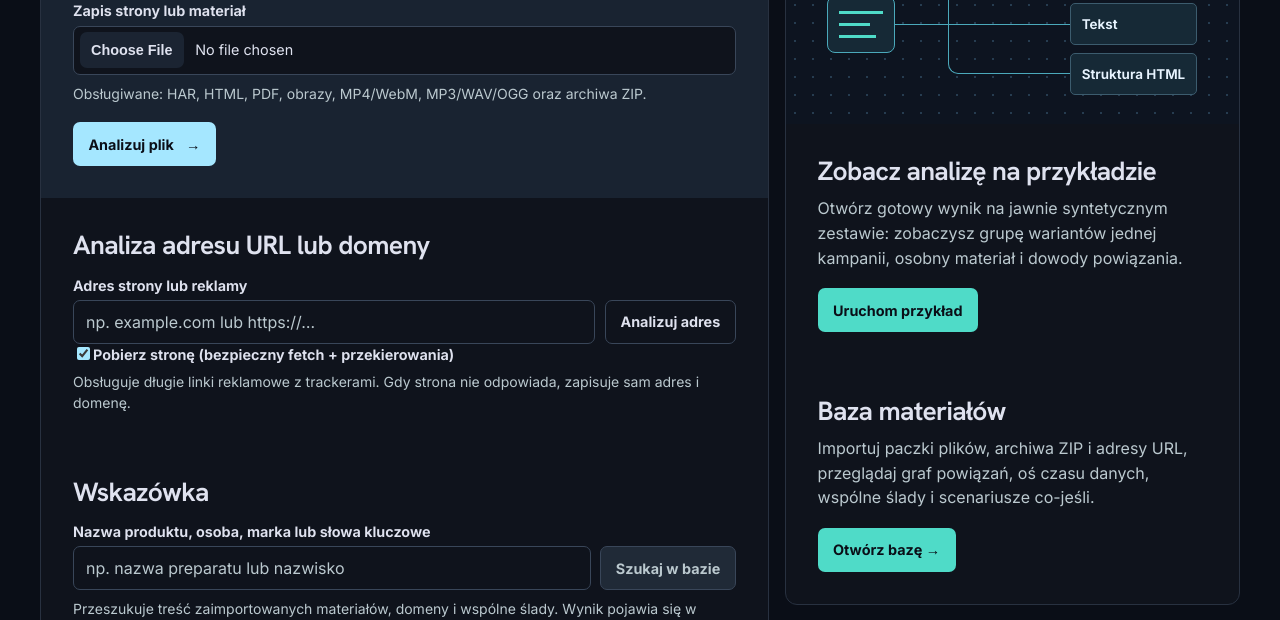
Test: ekran startowy › URL: wysyła JSON z domyślnym trybem fetch i normalizuje samą domenę
The width and height of the screenshot is (1280, 620).
(page scrolled)
Type "example.invalid/reklama/1" into the field labelled "Adres strony lub reklamy" at coordinates (334, 322), box [73,300,596,344]
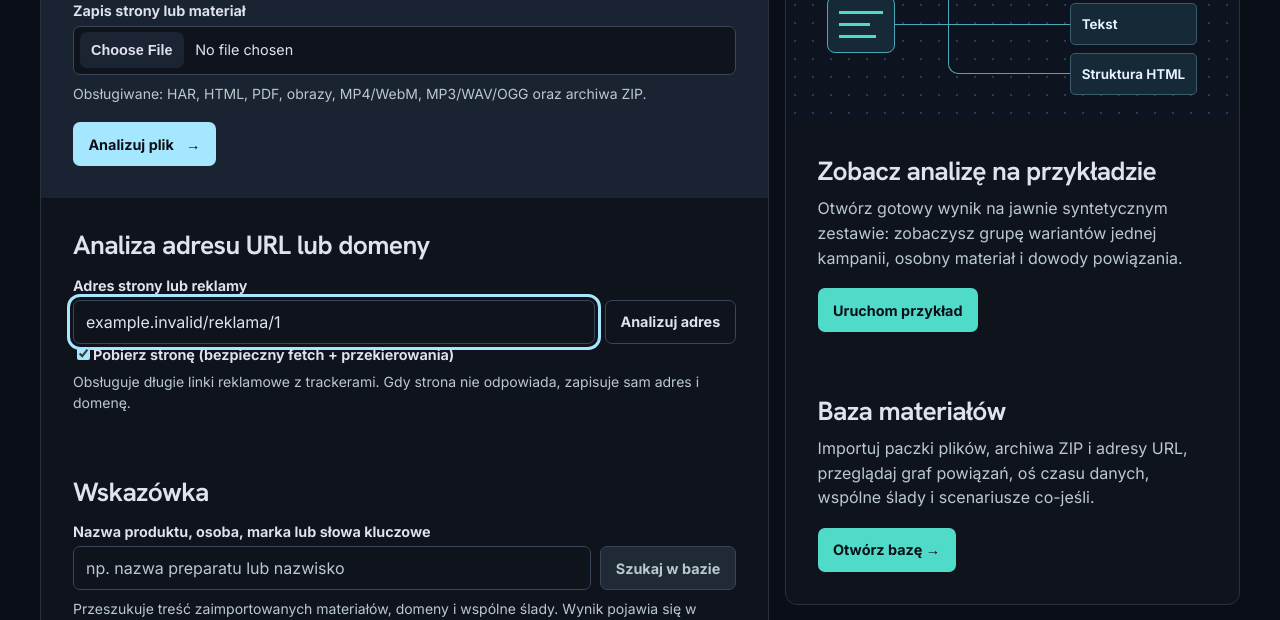
Click the button "Analizuj adres" at coordinates (670, 322), box [605,300,736,344]
(page scrolled)
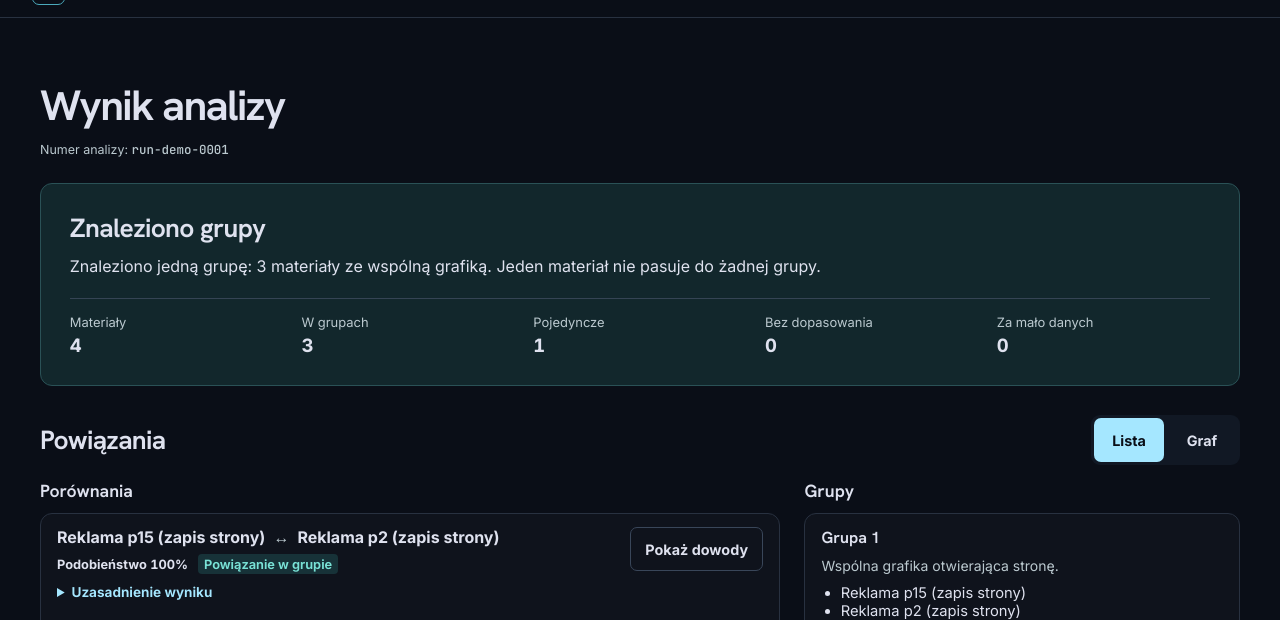
Result: the heading "Znaleziono grupy" is shown at [70,211,266,245]
